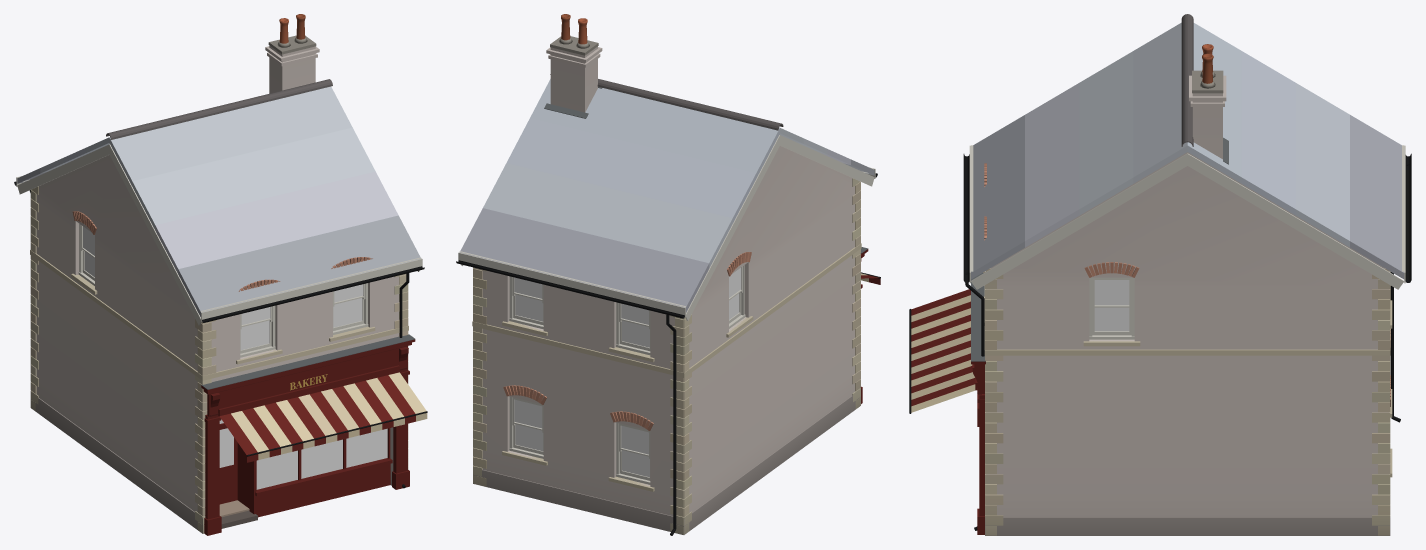
Rendered from town_bakery_a_lod1.glb.
3 views of the same model, side by side, from view 1: azimuth 30°, elevation 25°; view 2: azimuth 150°, elevation 25°; view 3: azimuth 270°, elevation 25° (orthographic). The views are drawn at different scales.
Visible parts, largest first — view 1: body; view 2: body; view 3: body.
Part boxes in pixels (left/top/right/bottom): body: left=14, top=14, right=427, bottom=535; body: left=456, top=14, right=880, bottom=535; body: left=909, top=14, right=1411, bottom=535.
Size of what is drawn, in the model's own units: 5.98 by 10.35 by 9.96.
